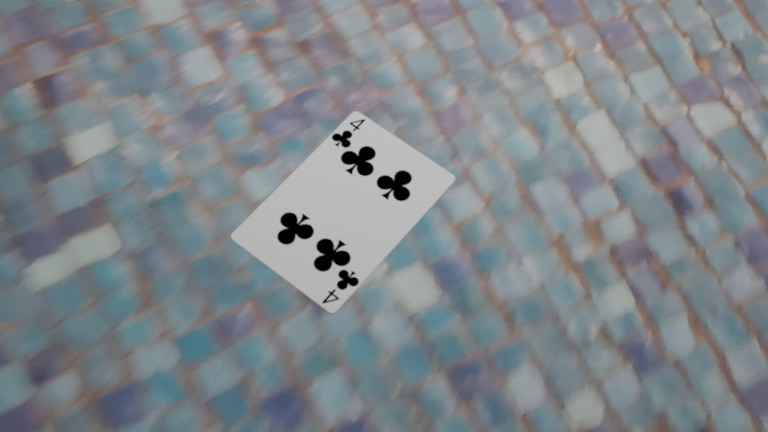4_of_clubs: (314, 264, 364, 312), (326, 112, 372, 153)
